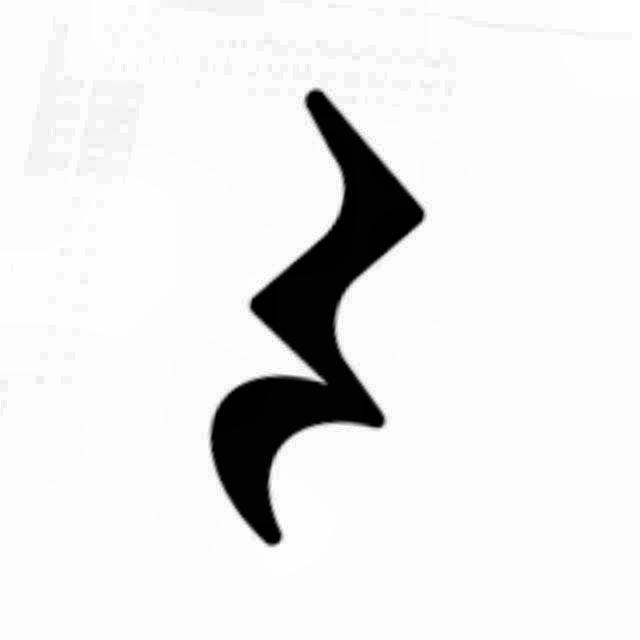Quarter-rest: (182, 66, 514, 560)
